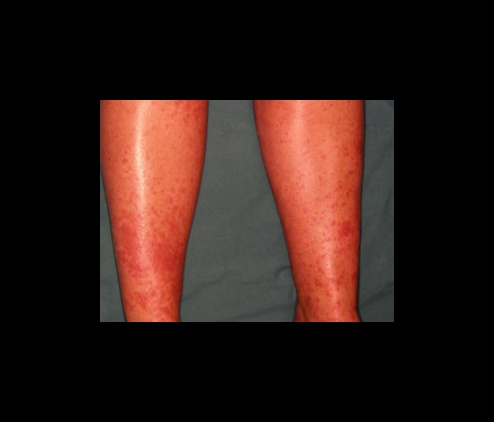SJS-TEN: (246, 99, 374, 323), (98, 99, 214, 322)
